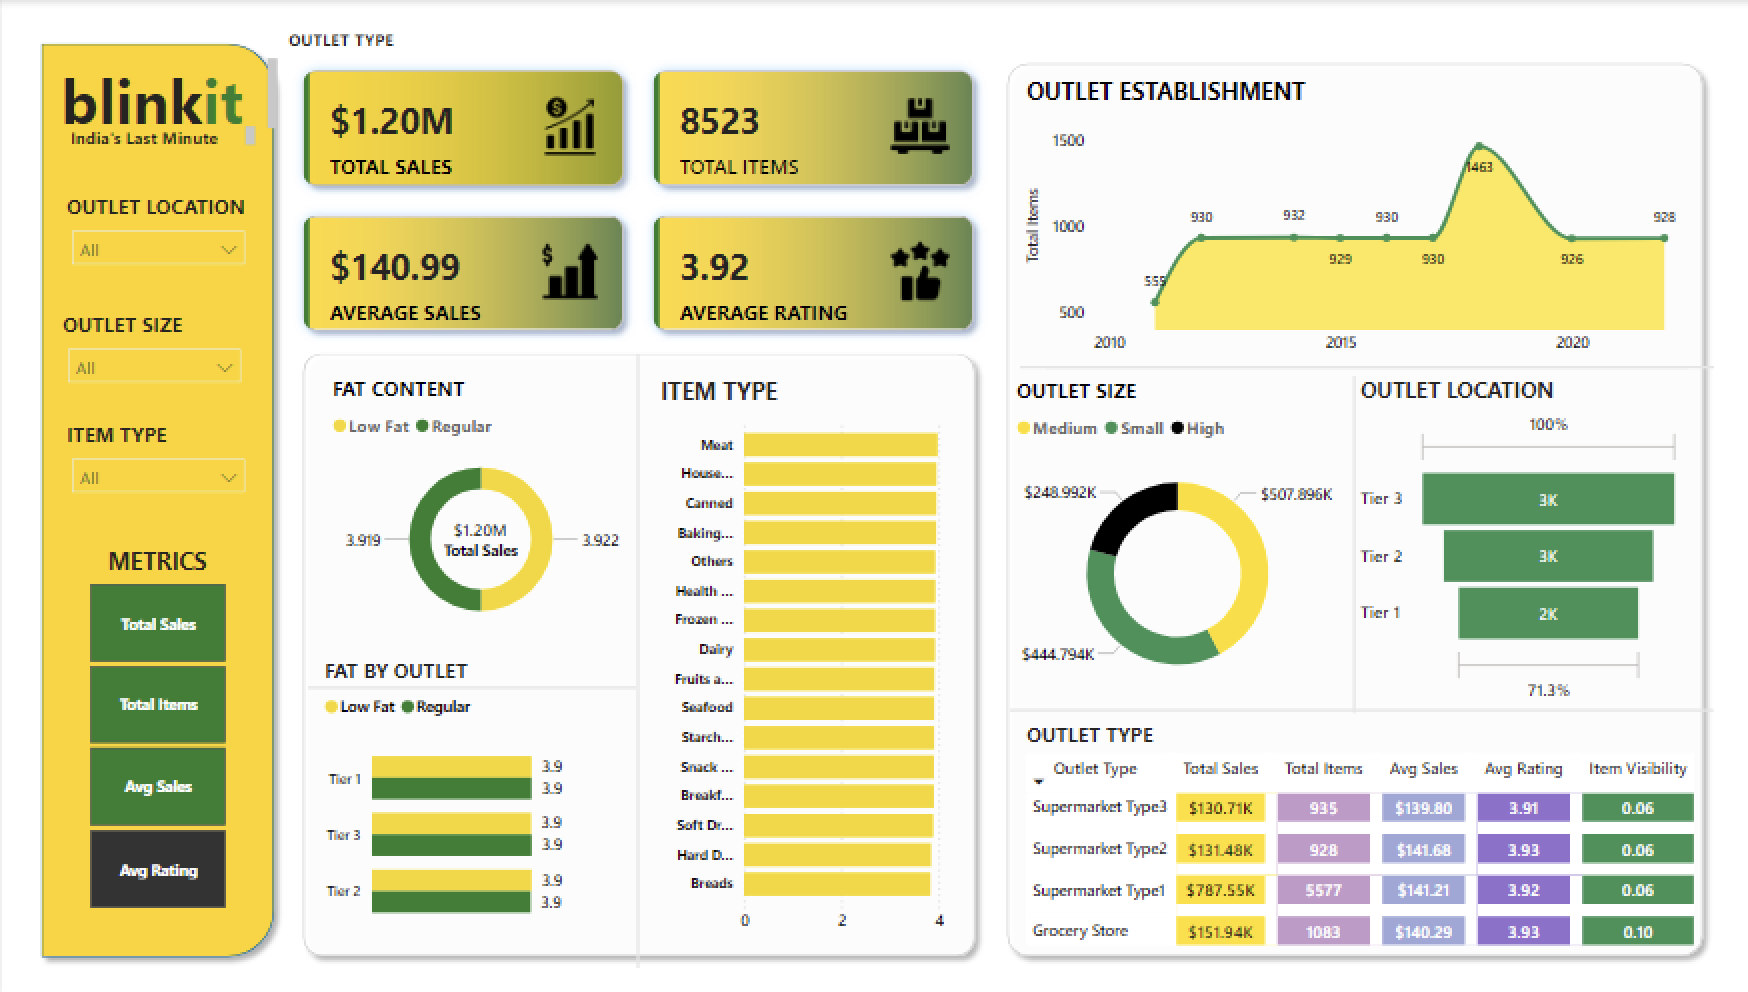

The page's visual inventory and layout, read from the dashboard file:
{"tool":"powerbi","page":{"name":"Dashboard","canvas":[1400,800],"ordinal":0},"visuals":[{"type":"shape","box":[22.7,25.2,204.3,749.2],"z":0},{"type":"textbox","box":[22.4,41.6,203.2,70.4],"z":1000},{"type":"textbox","box":[49.6,96,158.4,30.4],"z":2000},{"type":"cardVisual","title":"OUTLET TYPE","fields":{"Data":["BlinkIT Grocery Data.Total Sales","BlinkIT Grocery Data.Total Items","BlinkIT Grocery Data.Avg Sales","BlinkIT Grocery Data.Avg Rating"]},"box":[224.5,22.8,570.7,260.6],"z":3000},{"type":"shape","box":[232.1,273.9,555.4,500.3],"z":4000},{"type":"donutChart","title":"FAT CONTENT","fields":{"Y":["BlinkIT Grocery Data.Avg Rating"],"Category":["BlinkIT Grocery Data.Item Fat Content"]},"box":[259.2,299.2,248,214.4],"z":5000},{"type":"slicer","title":"METRICS","fields":{"Values":["Metrics.Metrics"]},"box":[44.8,435.2,158.4,297.6],"z":6000},{"type":"cardVisual","fields":{"Data":["BlinkIT Grocery Data.Total Sales"]},"box":[324.8,382.4,116.8,99.2],"z":7000},{"type":"clusteredBarChart","title":"FAT BY OUTLET","fields":{"Y":["BlinkIT Grocery Data.Avg Rating"],"Series":["BlinkIT Grocery Data.Item Fat Content"],"Category":["BlinkIT Grocery Data.Outlet Location Type"]},"box":[252.8,524.8,249.6,230.4],"z":8000},{"type":"shape","box":[245.4,545.9,262.5,9.5],"z":9000},{"type":"shape","box":[502.4,283.2,12.8,491.2],"z":10000},{"type":"clusteredBarChart","title":"ITEM TYPE","fields":{"Y":["BlinkIT Grocery Data.Avg Rating"],"Category":["BlinkIT Grocery Data.Item Type"]},"box":[521.6,299.2,236.8,456],"z":11000},{"type":"shape","box":[795.1,41.8,574.5,732.3],"z":12000},{"type":"lineChart","title":"OUTLET ESTABLISHMENT","fields":{"Category":["BlinkIT Grocery Data.Outlet Establishment Year"],"Y":["BlinkIT Grocery Data.Total Items"]},"box":[814.1,59,534.5,234],"z":13000},{"type":"shape","box":[814.1,283.4,534.5,20.9],"z":14000},{"type":"donutChart","title":"OUTLET SIZE","fields":{"Y":["BlinkIT Grocery Data.Total Sales"],"Category":["BlinkIT Grocery Data.Outlet Size"]},"box":[806.5,300.5,268.2,266.3],"z":15000},{"type":"shape","box":[835.1,283.4,534.5,20.9],"z":16000},{"type":"shape","box":[1074.7,300.5,13.3,270.1],"z":17000},{"type":"funnel","title":"OUTLET LOCATION","fields":{"Y":["BlinkIT Grocery Data.Total Items"],"Category":["BlinkIT Grocery Data.Outlet Location Type"]},"box":[1082.3,298.6,266.3,268.2],"z":18000},{"type":"pivotTable","title":"OUTLET TYPE","fields":{"Rows":["BlinkIT Grocery Data.Outlet Type"],"Values":["BlinkIT Grocery Data.Total Sales","BlinkIT Grocery Data.Total Items","BlinkIT Grocery Data.Avg Sales","BlinkIT Grocery Data.Avg Rating","Avg(BlinkIT Grocery Data.Item Visibility)"]},"box":[814.1,570.7,568.8,203.5],"z":19000},{"type":"shape","box":[806.5,566.8,563,3.8],"z":20000},{"type":"slicer","title":"OUTLET LOCATION","fields":{"Values":["BlinkIT Grocery Data.Outlet Location Type"]},"box":[45.7,154.1,157.9,70.4],"z":20001},{"type":"slicer","title":"OUTLET SIZE","fields":{"Values":["BlinkIT Grocery Data.Outlet Size"]},"box":[43.8,247.3,157.9,70.4],"z":20002},{"type":"slicer","title":"ITEM TYPE","fields":{"Values":["BlinkIT Grocery Data.Item Type"]},"box":[45.7,336.7,157.9,70.4],"z":20003}]}

Visuals, with their boxes in screenshot pixels (x1, y1, x2, y2), scaled from the page's 1400x800 canvas onto the 1748x992 screenshot:
shape: rect(28, 31, 283, 960)
textbox: rect(28, 52, 282, 139)
textbox: rect(62, 119, 260, 157)
"OUTLET TYPE" cardVisual: rect(280, 28, 993, 351)
shape: rect(290, 340, 983, 960)
"FAT CONTENT" donutChart: rect(324, 371, 633, 637)
"METRICS" slicer: rect(56, 540, 254, 909)
cardVisual - BlinkIT Grocery Data.Total Sales: rect(406, 474, 551, 597)
"FAT BY OUTLET" clusteredBarChart: rect(316, 651, 627, 936)
shape: rect(306, 677, 634, 689)
shape: rect(627, 351, 643, 960)
"ITEM TYPE" clusteredBarChart: rect(651, 371, 947, 936)
shape: rect(993, 52, 1710, 960)
"OUTLET ESTABLISHMENT" lineChart: rect(1016, 73, 1684, 363)
shape: rect(1016, 351, 1684, 377)
"OUTLET SIZE" donutChart: rect(1007, 373, 1342, 703)
shape: rect(1043, 351, 1710, 377)
shape: rect(1342, 373, 1358, 708)
"OUTLET LOCATION" funnel: rect(1351, 370, 1684, 703)
"OUTLET TYPE" pivotTable: rect(1016, 708, 1727, 960)
shape: rect(1007, 703, 1710, 708)
"OUTLET LOCATION" slicer: rect(57, 191, 254, 278)
"OUTLET SIZE" slicer: rect(55, 307, 252, 394)
"ITEM TYPE" slicer: rect(57, 418, 254, 505)
